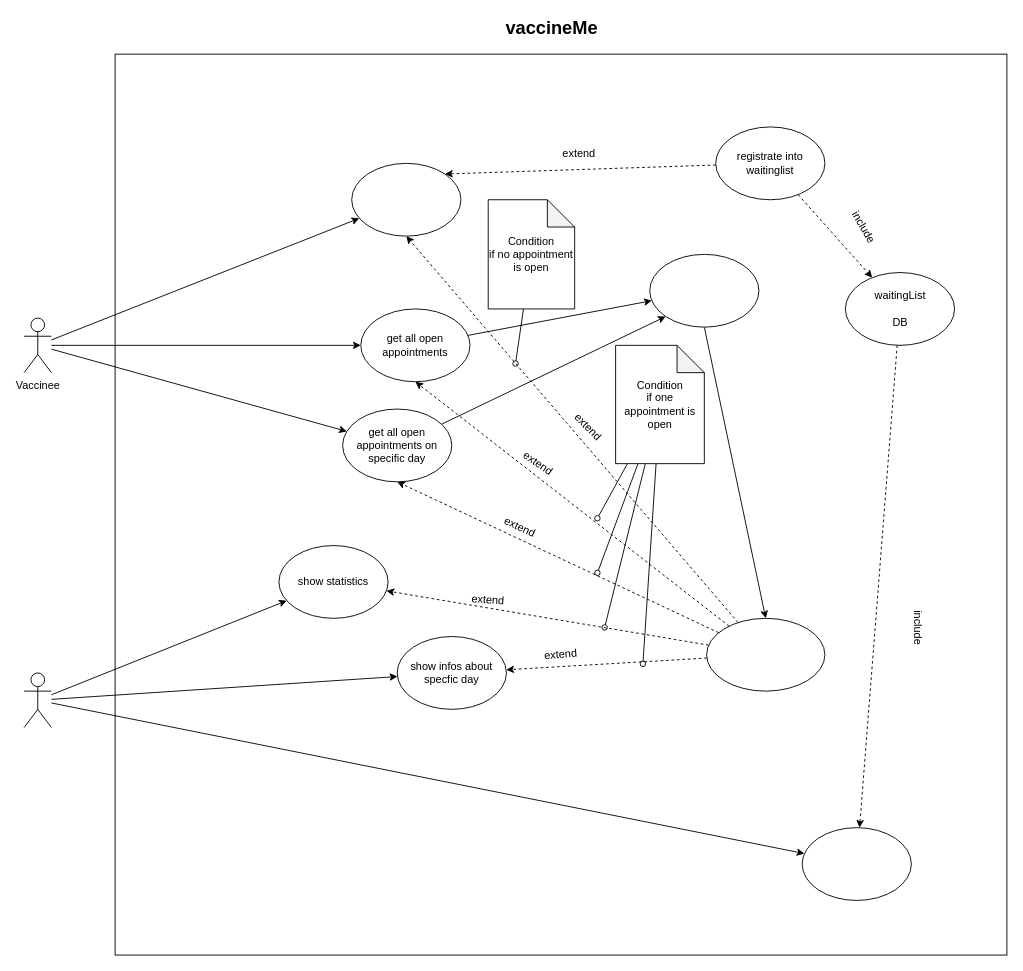
Some shapes in this 1023 by 971 pixel diagram are drawn without their labels. Here are the shapes that lost their labels. From the top down, the centre of each, then its label:
At pixel 406 199: "no available appointments".
At pixel 704 290: "registrate into appointment".
At pixel 765 654: "open Days / open Appointments DB".
At pixel 37 700: "Admin".
At pixel 856 863: "new Appointments".
